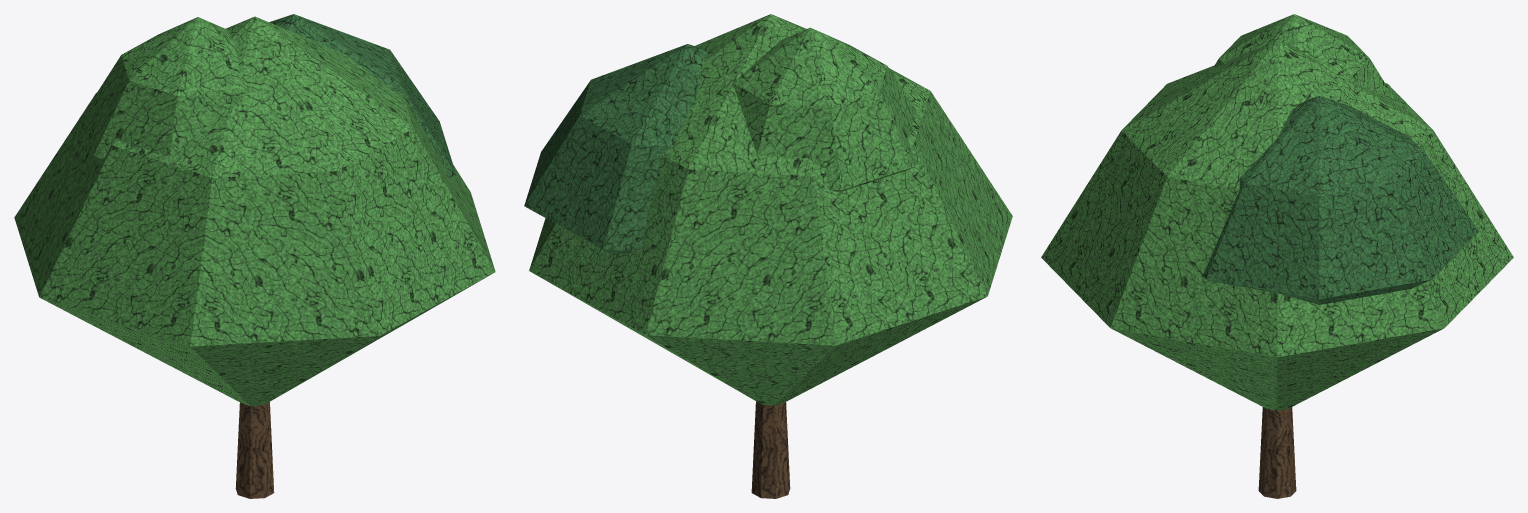
Rendered from hill_tree.fbx.
The picture shows the model from 3 angles, left to right: view 1: azimuth 30°, elevation 25°; view 2: azimuth 150°, elevation 25°; view 3: azimuth 270°, elevation 25°; orthographic projection. The views are drawn at different scales.
Parts seen in each view (by area): view 1: hill_tree; view 2: hill_tree; view 3: hill_tree.
Boxes of the visible parts, x1,y1,x2,y2 form: hill_tree: [14, 14, 495, 498]; hill_tree: [524, 14, 1012, 498]; hill_tree: [1041, 14, 1513, 498].
Size of the model in its own units: 476 by 505 by 476.
